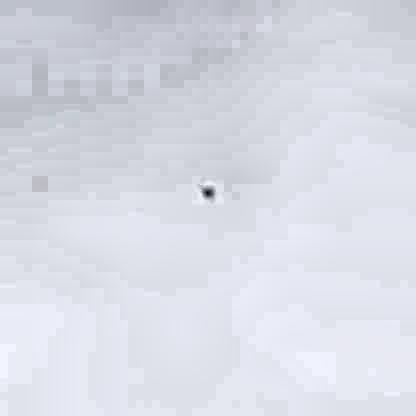golfball: (201, 185, 212, 195)
